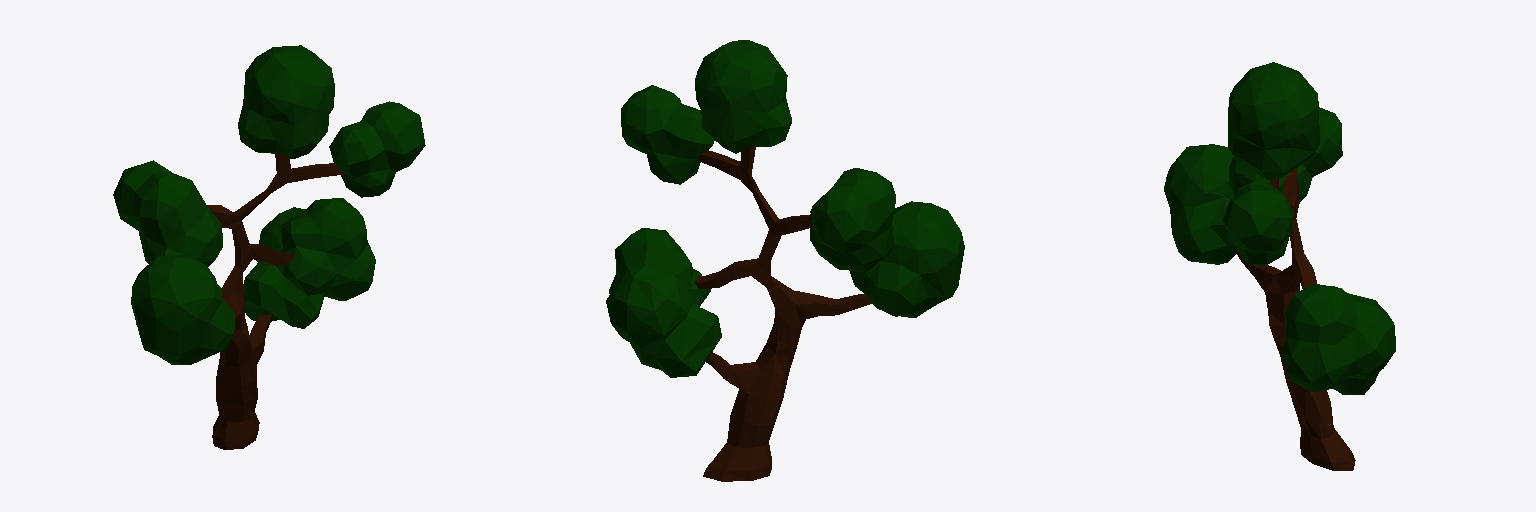
The model's file is tree.obj.
The picture shows the model from 3 angles: view 1: azimuth 30°, elevation 25°; view 2: azimuth 150°, elevation 25°; view 3: azimuth 270°, elevation 25°; orthographic projection.
Visible parts, largest first — view 1: LowPoly_Tree_05_lowpoly_tree_03_Cube.001; view 2: LowPoly_Tree_05_lowpoly_tree_03_Cube.001; view 3: LowPoly_Tree_05_lowpoly_tree_03_Cube.001.
Part boxes in pixels (bbox=[...]): LowPoly_Tree_05_lowpoly_tree_03_Cube.001: bbox=[113, 45, 425, 449]; LowPoly_Tree_05_lowpoly_tree_03_Cube.001: bbox=[606, 40, 964, 481]; LowPoly_Tree_05_lowpoly_tree_03_Cube.001: bbox=[1164, 62, 1395, 470].
Size of the model in its own units: 3.35 by 4.11 by 2.16.